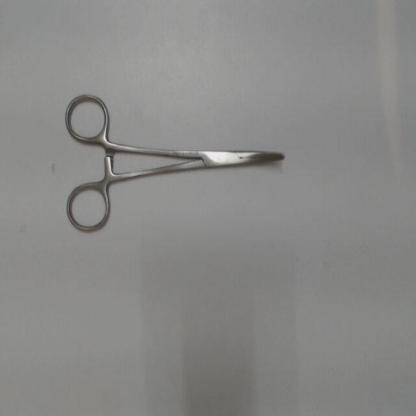Crile Artery Forceps: (62, 80, 292, 235)
